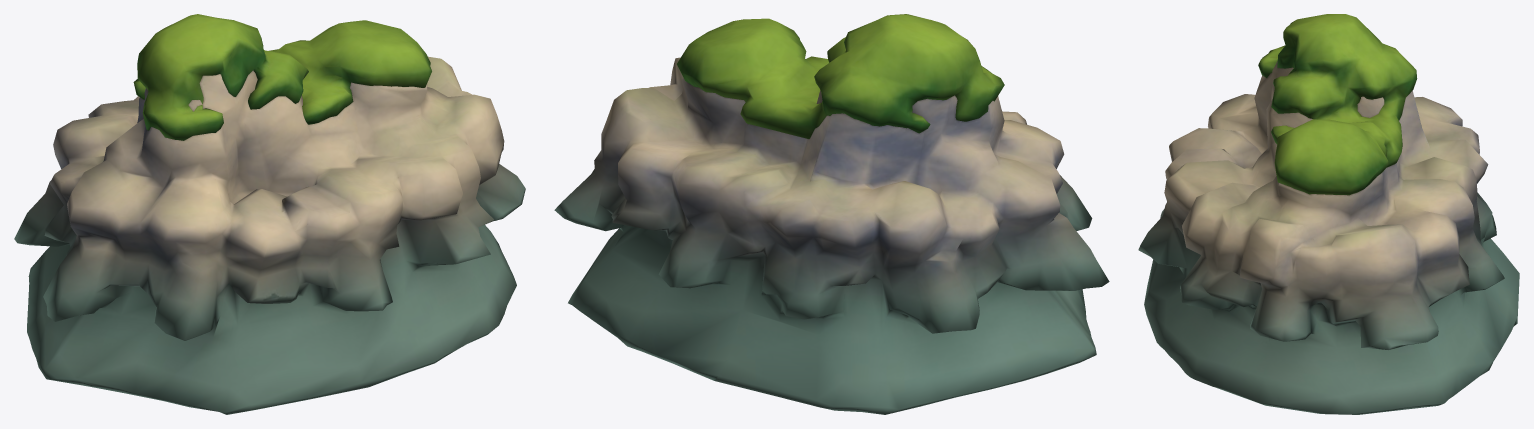
Rendered from islet_peak.glb.
3 views of the same model, side by side, from view 1: azimuth 30°, elevation 25°; view 2: azimuth 150°, elevation 25°; view 3: azimuth 270°, elevation 25° (orthographic). The views are drawn at different scales.
Visible parts, largest first — view 1: islet_peak; view 2: islet_peak; view 3: islet_peak.
Part boxes in pixels (x1,y1,x2,y2): islet_peak: (14, 14, 525, 414); islet_peak: (554, 14, 1109, 414); islet_peak: (1138, 14, 1519, 414).
Bounding box in the file's own units: 14.74 × 8.96 × 11.46.
1 material, 1 textured.
